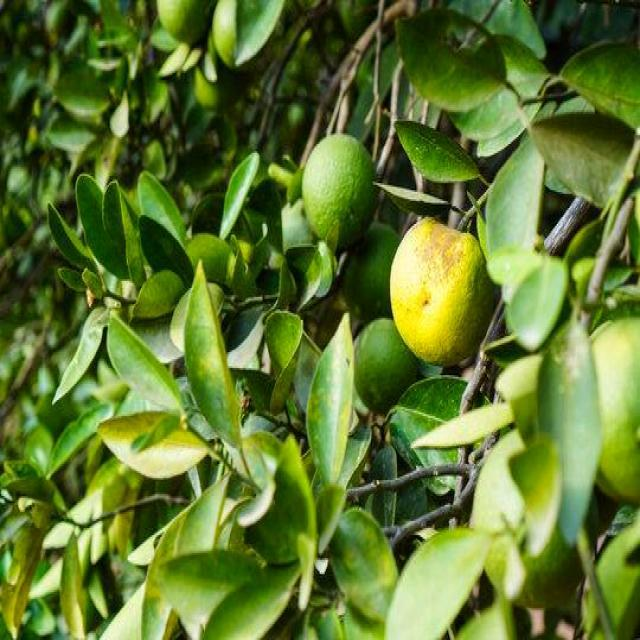Jeruk Belum Matang: (583, 316, 640, 498), (303, 132, 377, 248)
